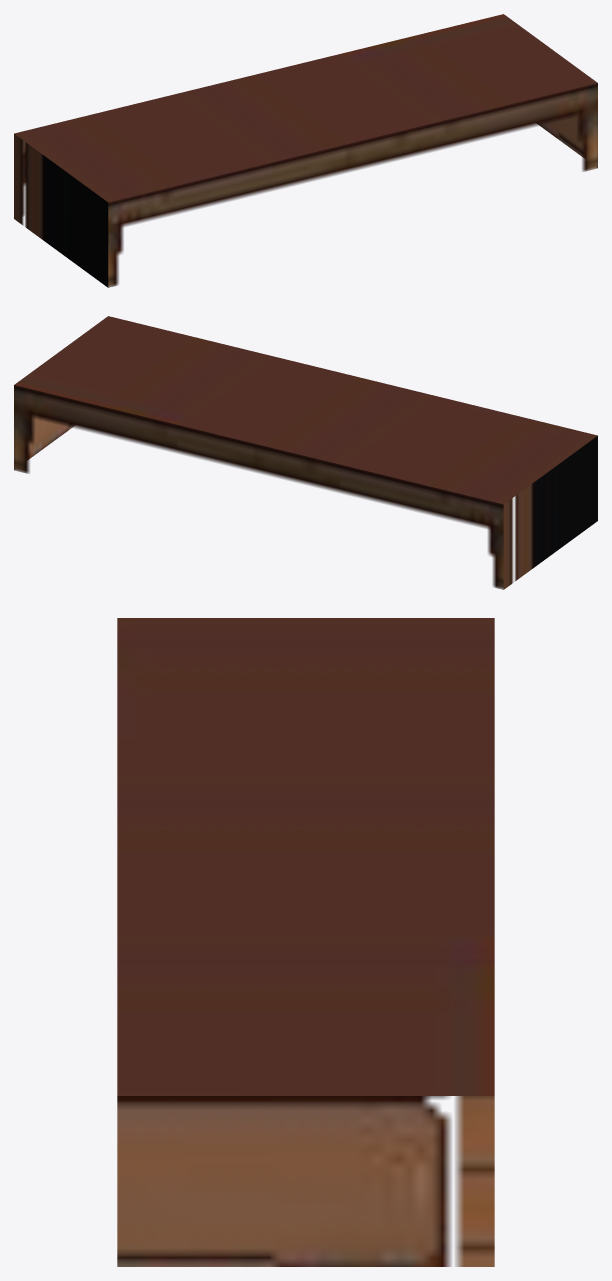
The model's file is desktest.glb.
3 views of the same model, one above another, from view 1: azimuth 30°, elevation 25°; view 2: azimuth 150°, elevation 25°; view 3: azimuth 270°, elevation 25° (orthographic). The views are drawn at different scales.
Parts seen in each view (by area): view 1: Desk; view 2: Desk; view 3: Desk.
Boxes of the visible parts, left/top/right/bottom form: Desk: left=14, top=14, right=597, bottom=287; Desk: left=14, top=316, right=597, bottom=589; Desk: left=117, top=618, right=494, bottom=1266.
Size of the model in its own units: 6 by 1 by 2.
1 material, 1 textured.
